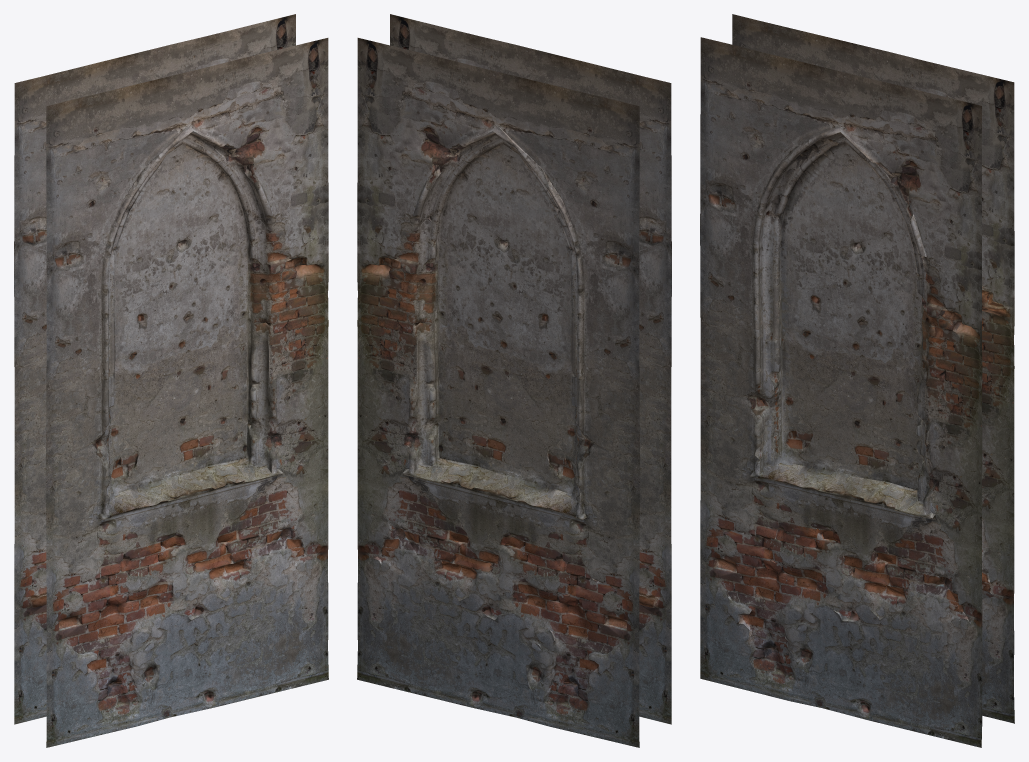
The model's file is SM_ChapelWall_01_04.fbx.
The picture shows the model from 3 angles, left to right: view 1: azimuth 30°, elevation 25°; view 2: azimuth 150°, elevation 25°; view 3: azimuth 330°, elevation 25°; orthographic projection.
Parts seen in each view (by area): view 1: sm_ChapelWall_01_04_LOD0; view 2: sm_ChapelWall_01_04_LOD0; view 3: sm_ChapelWall_01_04_LOD0.
Boxes of the visible parts, <box> form: sm_ChapelWall_01_04_LOD0: <box>14,14,328,747</box>; sm_ChapelWall_01_04_LOD0: <box>357,14,671,747</box>; sm_ChapelWall_01_04_LOD0: <box>700,14,1014,747</box>.
Size of the model in its own units: 60.37 by 250 by 544.
